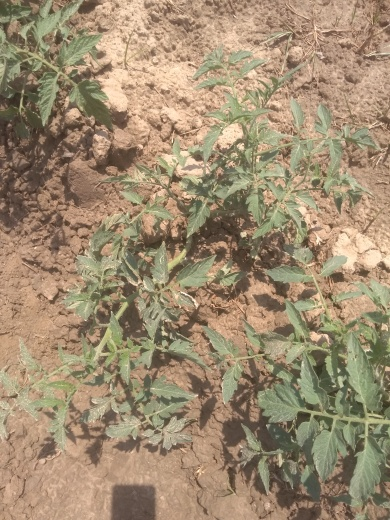tomato diseased leaf: (168, 288, 201, 316)
tomato plant: (92, 174, 317, 409), (242, 326, 390, 512)
